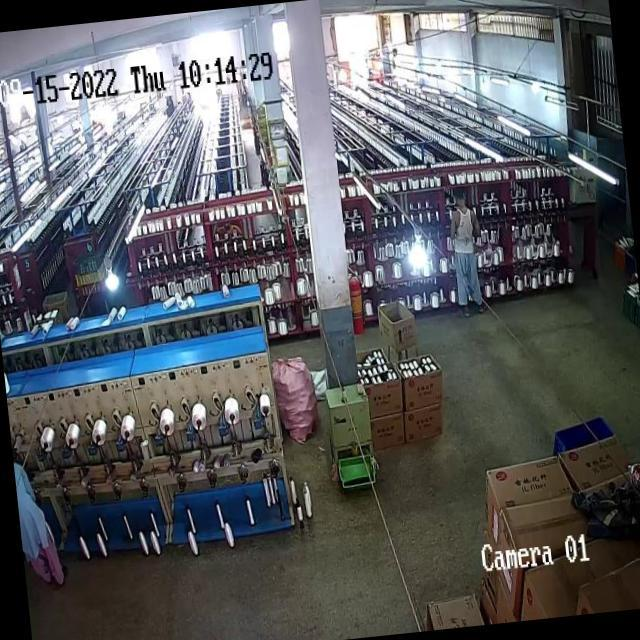person: (12, 447, 70, 592), (446, 180, 486, 316)
